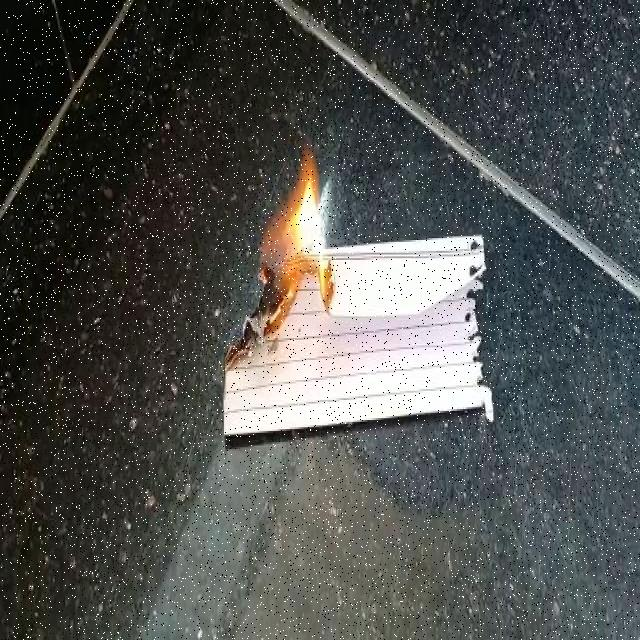fire: (274, 159, 327, 267)
